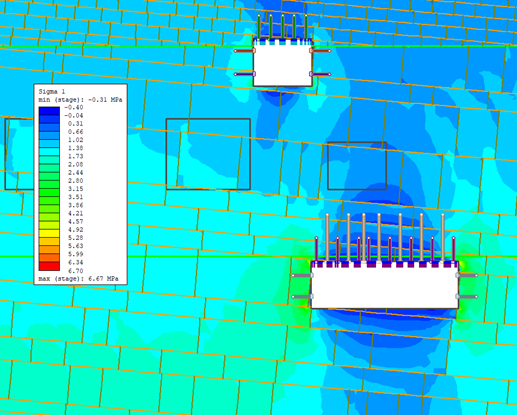crown: (365, 245, 407, 258), (267, 29, 293, 38)
label: (33, 83, 127, 284)
tunnel-opening: (311, 260, 459, 308), (253, 39, 312, 85)
